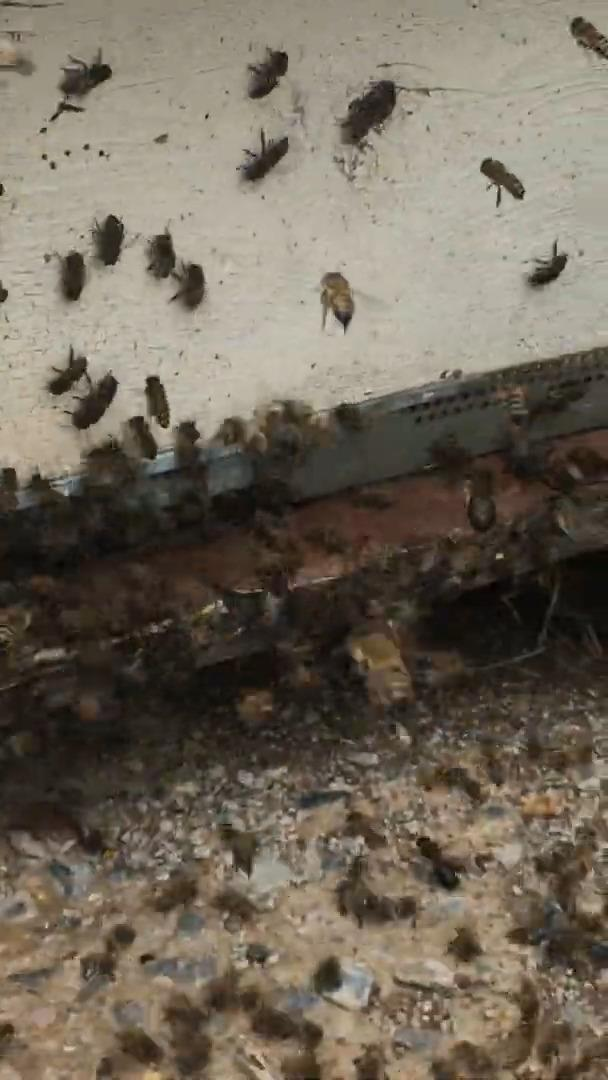worker-bee: (258, 399, 331, 461), (340, 80, 396, 145), (69, 373, 117, 429), (59, 48, 111, 97), (239, 129, 288, 181), (85, 437, 133, 486), (416, 836, 459, 889), (218, 821, 258, 877), (480, 159, 524, 207), (429, 432, 469, 484), (320, 272, 354, 332), (248, 48, 287, 99), (465, 467, 496, 531), (47, 347, 87, 395), (0, 605, 31, 665), (527, 240, 567, 286), (92, 214, 124, 265), (171, 262, 205, 309), (154, 874, 196, 912), (570, 16, 607, 58), (212, 887, 257, 921), (147, 227, 175, 279), (126, 415, 157, 459), (26, 470, 64, 505), (145, 376, 170, 429), (497, 384, 529, 424), (60, 250, 85, 300), (174, 421, 200, 467), (212, 416, 248, 447), (333, 402, 367, 431), (452, 770, 483, 801), (351, 489, 394, 509), (0, 467, 18, 513), (0, 280, 8, 303)
